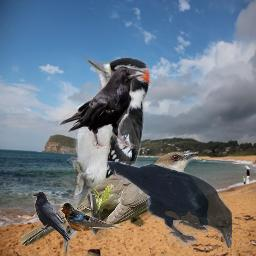Crow: (106, 161, 232, 248), (58, 65, 146, 149), (32, 191, 71, 242)
Cuckoo: (18, 150, 198, 246)
Swallow: (60, 202, 123, 231)
Woodpecker: (62, 48, 159, 256)
